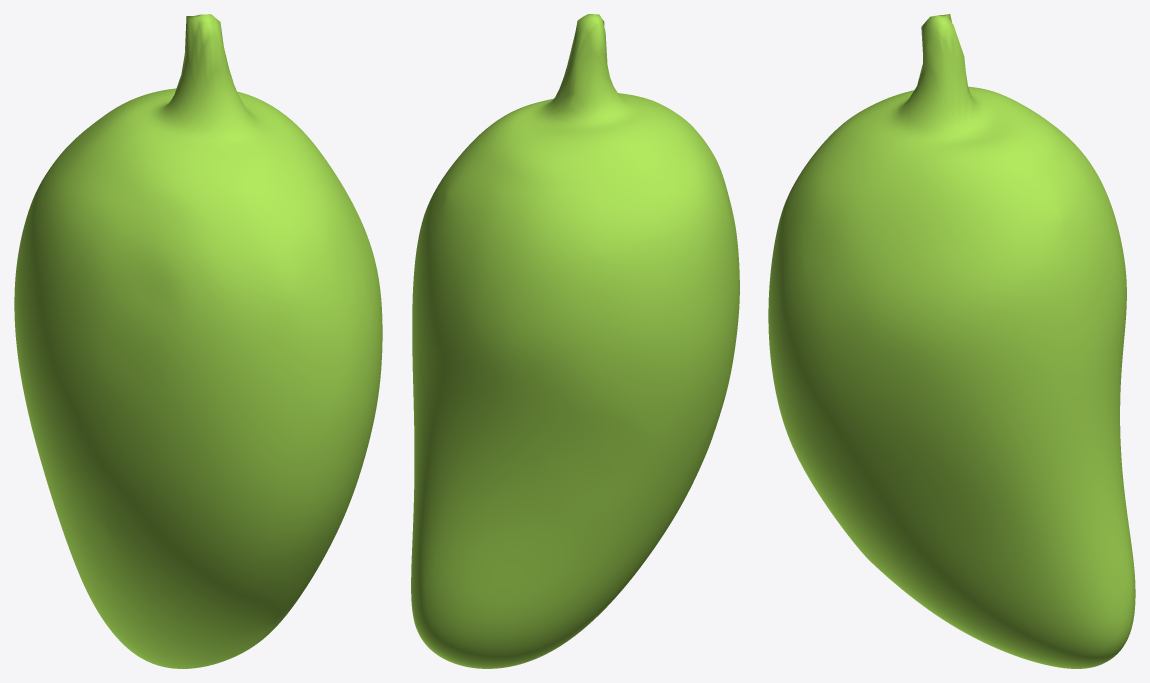
File: uploads_files_4824517_mango.fbx
The picture shows the model from 3 angles, left to right: view 1: azimuth 30°, elevation 25°; view 2: azimuth 150°, elevation 25°; view 3: azimuth 270°, elevation 25°; orthographic projection. The views are drawn at different scales.
Parts seen in each view (by area): view 1: mango; view 2: mango; view 3: mango.
Part boxes in pixels (x1,y1,x2,y2): mango: (14,14,382,668); mango: (411,14,739,668); mango: (768,14,1135,668).
Size of the model in its own units: 1077 by 2260 by 1200.
